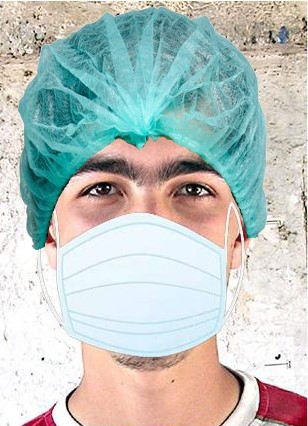with_mask_and_cap: (21, 10, 262, 363)
